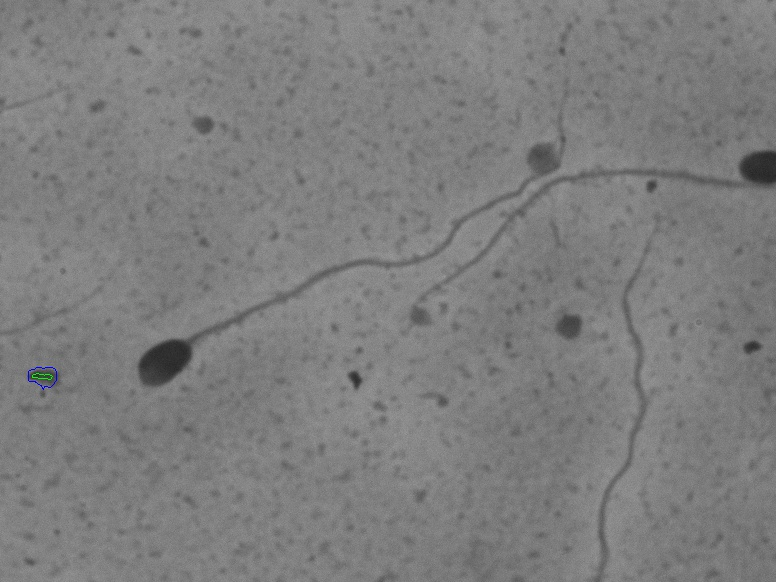Normal: (124, 52, 584, 402)
